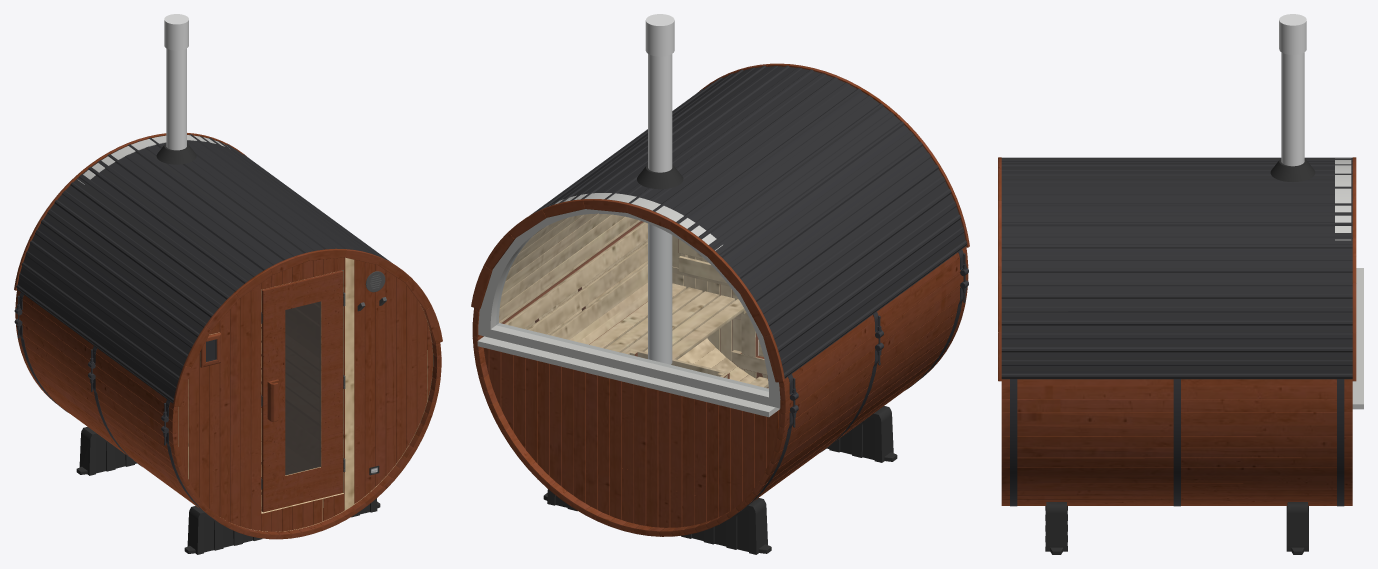
Rendered from sauna_small.glb.
3 views of the same model, side by side, from view 1: azimuth 30°, elevation 25°; view 2: azimuth 150°, elevation 25°; view 3: azimuth 270°, elevation 25° (orthographic). The views are drawn at different scales.
Parts seen in each view (by area): view 1: Body, Roof, Door, Chimney, Window_Frame; view 2: Body, Roof, Window_Glass, Window_Frame, Chimney, Bench; view 3: Roof, Body, Chimney, Window_Frame.
Boxes of the visible parts, left/top/right/bottom form: Body: left=14, top=133, right=442, bottom=554; Roof: left=16, top=134, right=391, bottom=403; Door: left=261, top=270, right=345, bottom=512; Chimney: left=156, top=14, right=196, bottom=164; Window_Frame: left=77, top=135, right=229, bottom=184; Body: left=471, top=63, right=969, bottom=554; Roof: left=529, top=65, right=967, bottom=378; Window_Glass: left=496, top=214, right=768, bottom=391; Window_Frame: left=477, top=193, right=780, bottom=417; Chimney: left=637, top=14, right=683, bottom=364; Bench: left=501, top=221, right=746, bottom=339; Roof: left=1001, top=157, right=1352, bottom=379; Body: left=998, top=157, right=1356, bottom=554; Chimney: left=1270, top=14, right=1315, bottom=181; Window_Frame: left=1335, top=158, right=1363, bottom=409.
Size of the model in its own units: 1.97 by 2.97 by 2.04.
11 materials, 4 textured.
